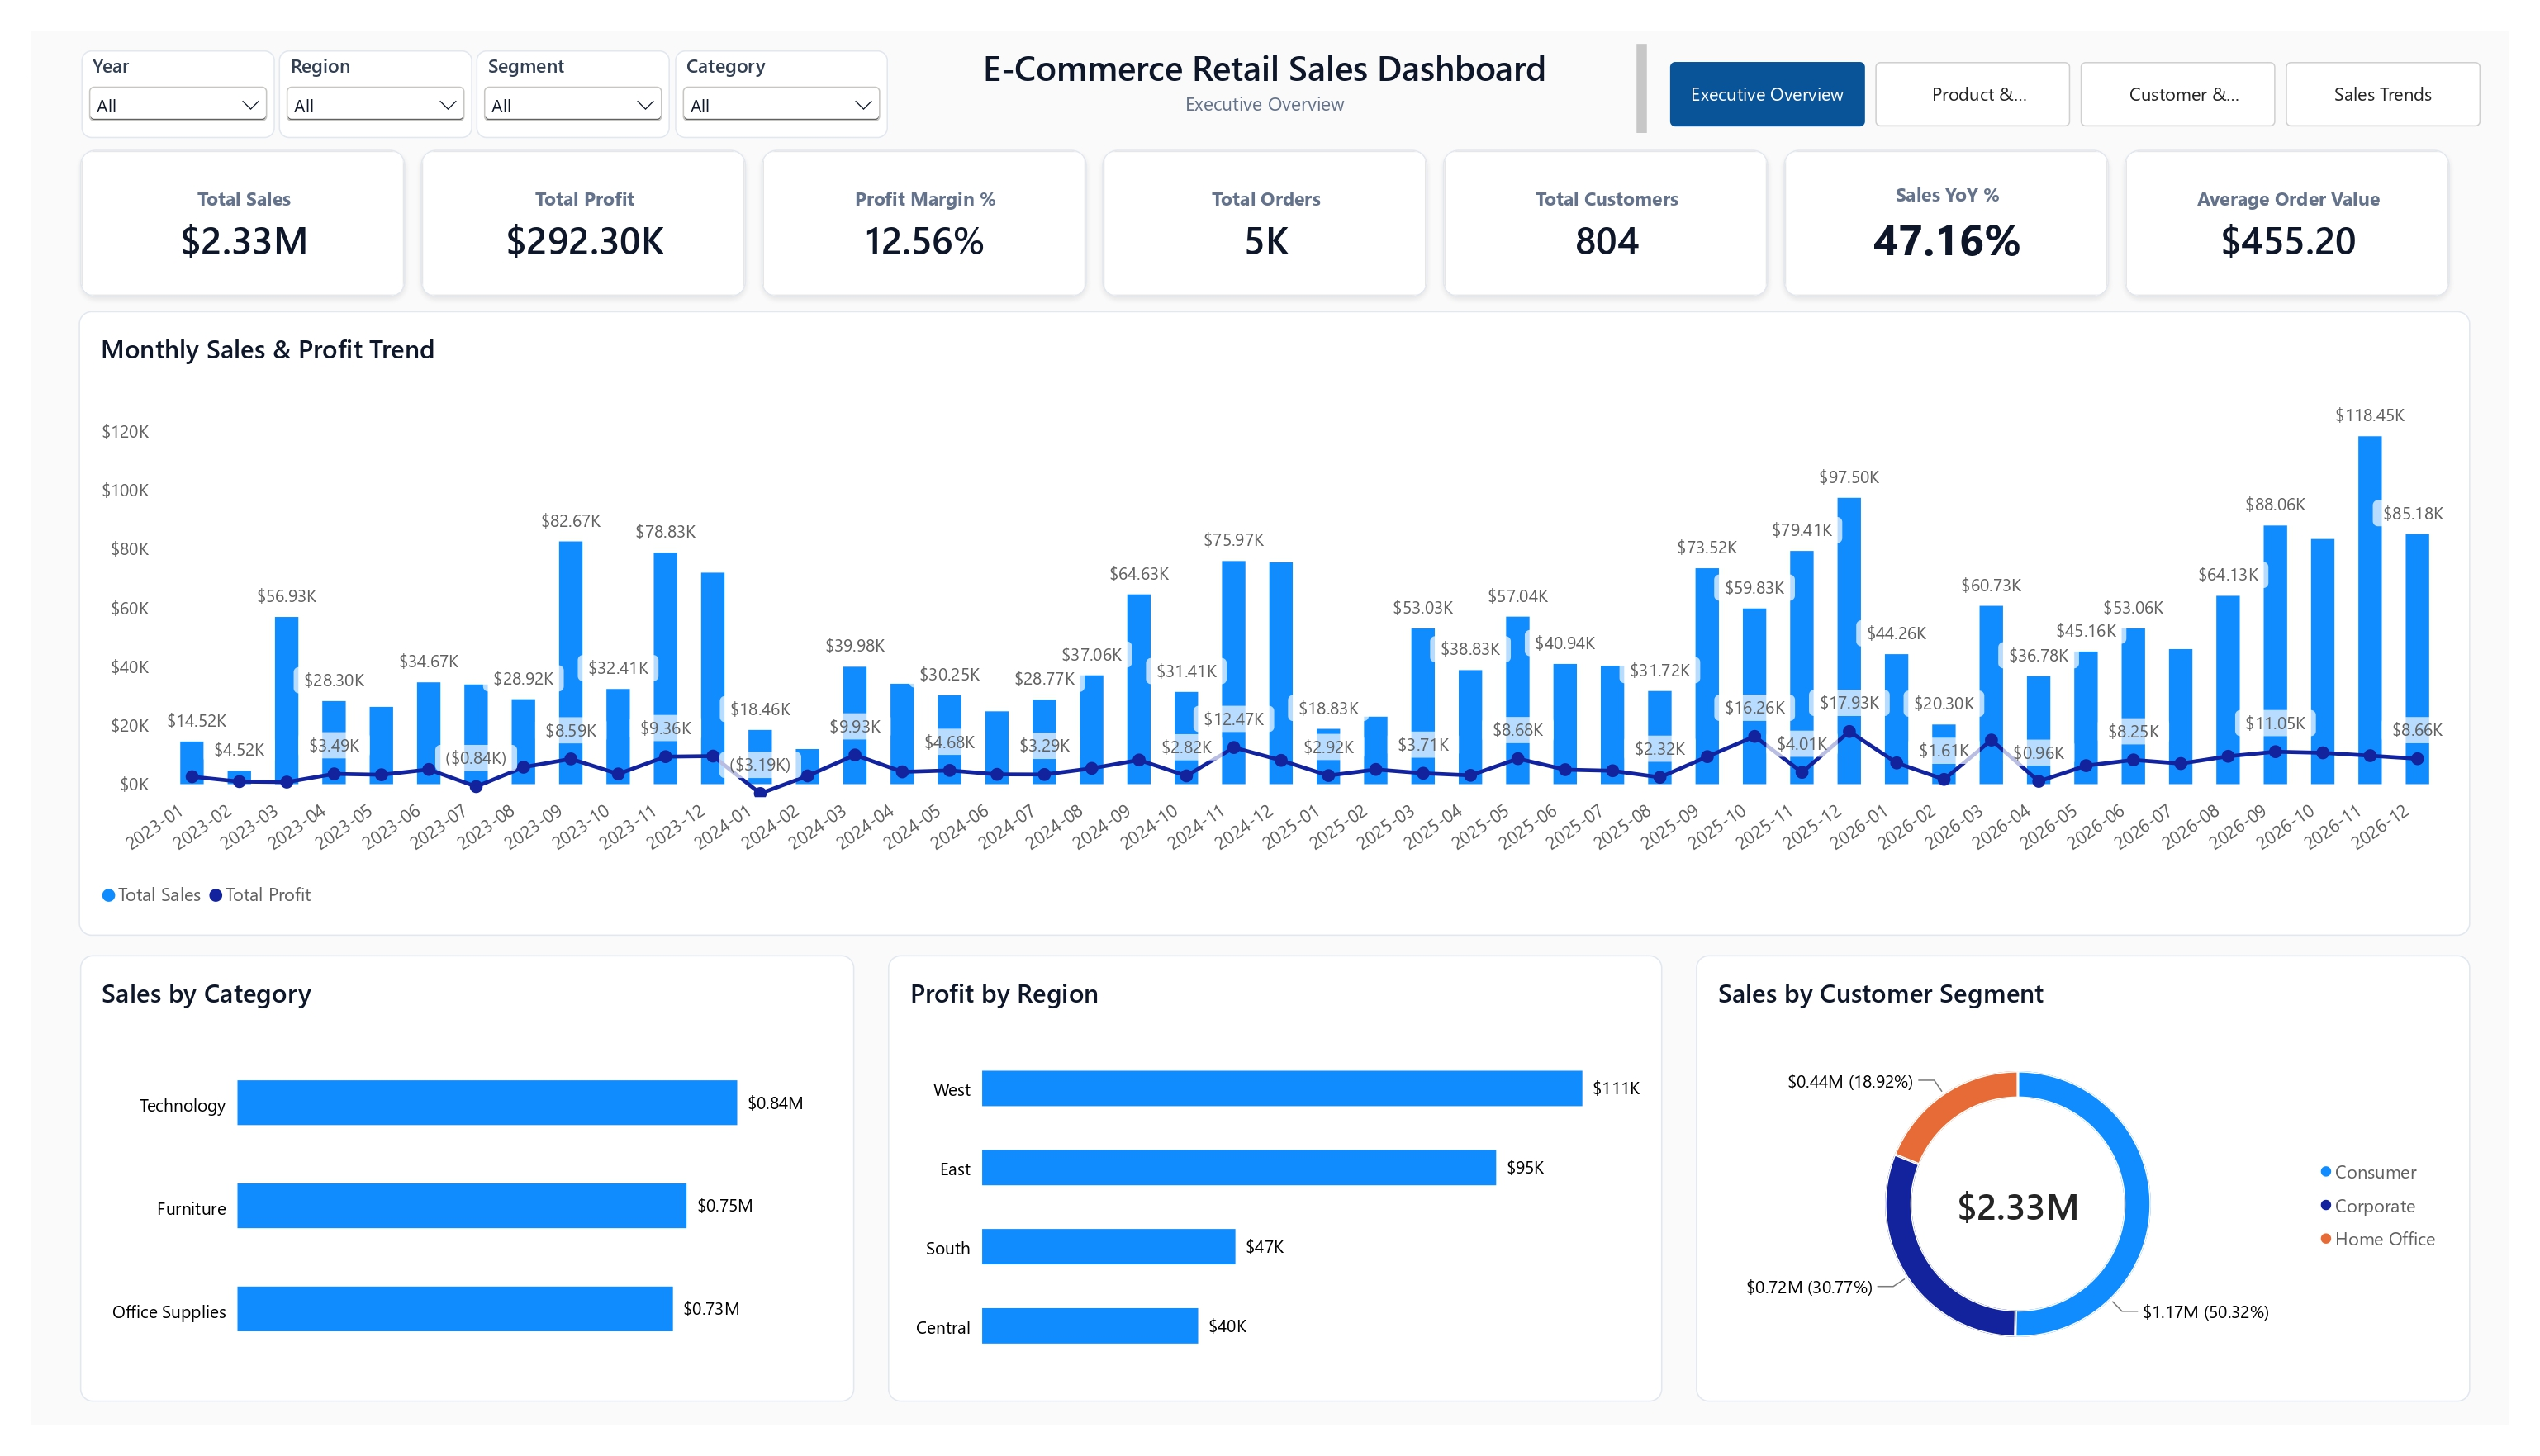

This screenshot's page, from the dashboard's own definition file:
{"tool":"powerbi","page":{"name":"Executive Overview","canvas":[1920,1080],"ordinal":0},"visuals":[{"type":"textbox","box":[667.8,10,584.5,72],"z":0},{"type":"cardVisual","fields":{"Data":["_Measures.Total Sales"]},"box":[38,92,252,114],"z":1000},{"type":"cardVisual","fields":{"Data":["_Measures.Total Profit"]},"box":[302,92,252,114],"z":2000},{"type":"cardVisual","fields":{"Data":["_Measures.Profit Margin %"]},"box":[566,92,252,114],"z":3000},{"type":"cardVisual","fields":{"Data":["_Measures.Total Orders"]},"box":[830,92,252,114],"z":4000},{"type":"cardVisual","fields":{"Data":["_Measures.Total Customers"]},"box":[1094,92,252,114],"z":5000},{"type":"cardVisual","fields":{"Data":["_Measures.Average Order Value"]},"box":[1622,92,252,114],"z":6000},{"type":"lineClusteredColumnComboChart","title":"Monthly Sales & Profit Trend","fields":{"Category":["DateTable.Year Month"],"Y":["_Measures.Total Sales"],"Y2":["_Measures.Total Profit"]},"box":[37.1,217.1,1852.9,484.3],"z":7000},{"type":"clusteredBarChart","title":"Sales by Category","fields":{"Category":["superstore_cleaned.category"],"Y":["_Measures.Total Sales"]},"box":[38,716,600,346],"z":8000},{"type":"clusteredBarChart","title":"Profit by Region","fields":{"Category":["superstore_cleaned.region"],"Y":["_Measures.Total Profit"]},"box":[664,716,600,346],"z":9000},{"type":"donutChart","title":"Sales by Customer Segment","fields":{"Category":["superstore_cleaned.segment"],"Y":["_Measures.Total Sales"]},"box":[1290,716,600,346],"z":10000},{"type":"cardVisual","fields":{"Data":["_Measures.Sales YoY %"]},"box":[1358,92,252,114],"z":11000},{"type":"slicer","fields":{"Values":["DateTable.Year"]},"box":[38.6,14.7,150,68.6],"z":12000},{"type":"slicer","fields":{"Values":["superstore_cleaned.region"]},"box":[191.9,15,150,68],"z":13000},{"type":"slicer","fields":{"Values":["superstore_cleaned.segment"]},"box":[345.2,15,150,68],"z":14000},{"type":"slicer","fields":{"Values":["superstore_cleaned.category"]},"box":[498.6,15.4,165.7,67.1],"z":15000},{"type":"pageNavigator","box":[1270,24,630,50],"z":15001}]}

Visuals, with their boxes on the page's 1920x1080 design canvas (x1, y1, x2, y2). These are canvas units, not pixel positions in the 2540x1456 screenshot, which may show the page scaled, cropped or inside an application window:
textbox: l=668, t=10, r=1252, b=82
cardVisual - _Measures.Total Sales: l=38, t=92, r=290, b=206
cardVisual - _Measures.Total Profit: l=302, t=92, r=554, b=206
cardVisual - _Measures.Profit Margin %: l=566, t=92, r=818, b=206
cardVisual - _Measures.Total Orders: l=830, t=92, r=1082, b=206
cardVisual - _Measures.Total Customers: l=1094, t=92, r=1346, b=206
cardVisual - _Measures.Average Order Value: l=1622, t=92, r=1874, b=206
"Monthly Sales & Profit Trend" lineClusteredColumnComboChart: l=37, t=217, r=1890, b=701
"Sales by Category" clusteredBarChart: l=38, t=716, r=638, b=1062
"Profit by Region" clusteredBarChart: l=664, t=716, r=1264, b=1062
"Sales by Customer Segment" donutChart: l=1290, t=716, r=1890, b=1062
cardVisual - _Measures.Sales YoY %: l=1358, t=92, r=1610, b=206
slicer - DateTable.Year: l=39, t=15, r=189, b=83
slicer - superstore_cleaned.region: l=192, t=15, r=342, b=83
slicer - superstore_cleaned.segment: l=345, t=15, r=495, b=83
slicer - superstore_cleaned.category: l=499, t=15, r=664, b=82
pageNavigator: l=1270, t=24, r=1900, b=74
